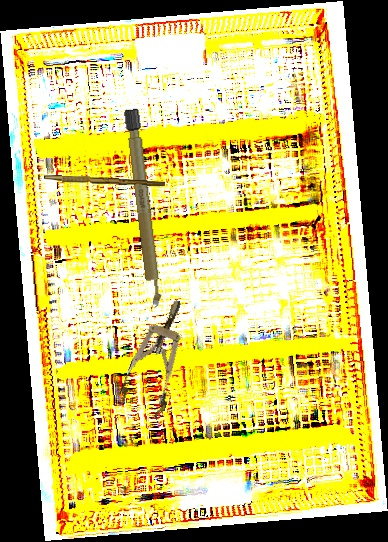Scalpel Handle: (122, 106, 164, 312), (43, 174, 166, 188)
Speculum: (115, 292, 202, 422)
